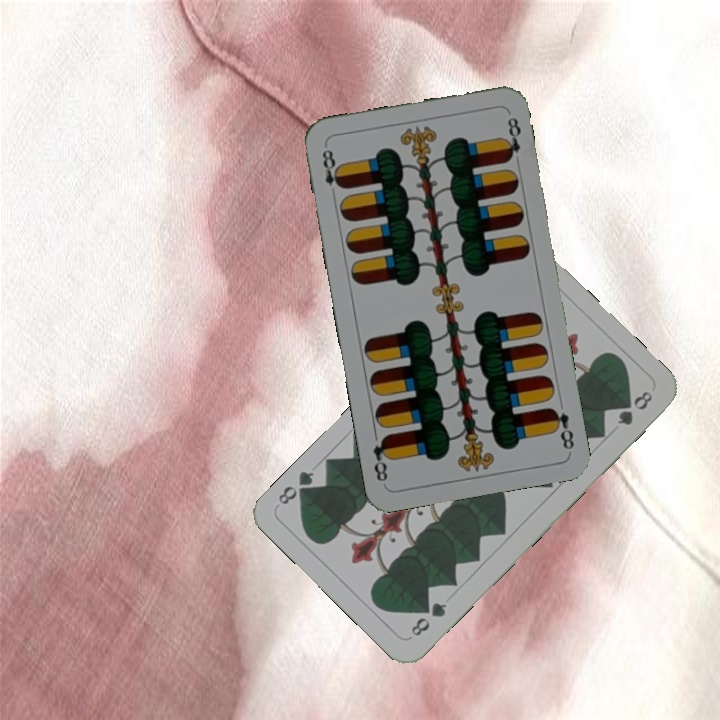E8: (546, 403, 577, 453), (318, 142, 346, 191)
G8: (407, 598, 449, 639)
